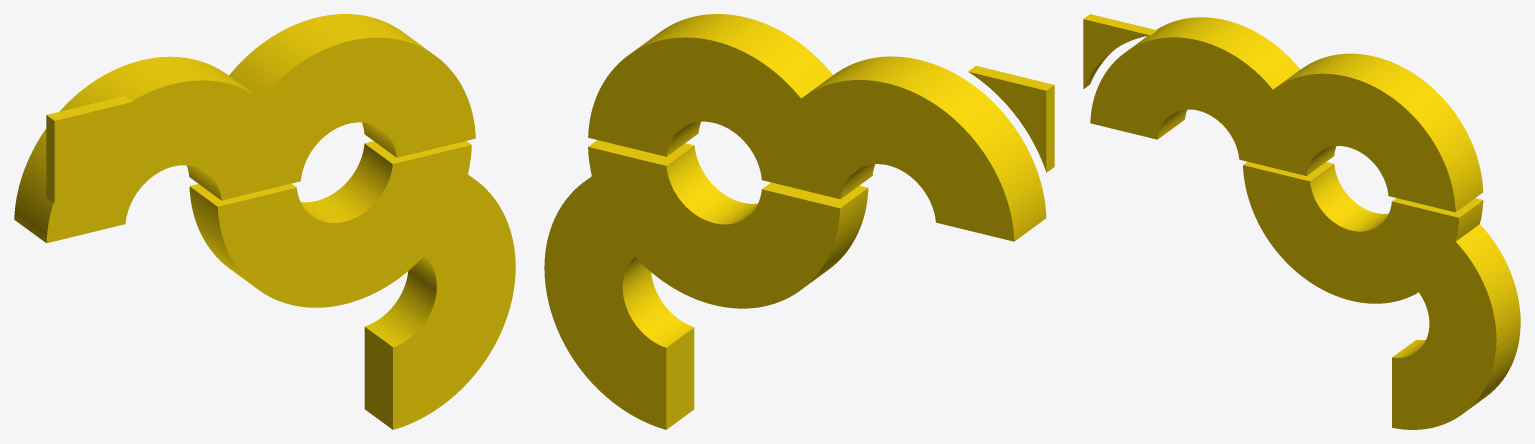
The model's file is img.gltf.
The picture shows the model from 3 angles, left to right: view 1: azimuth 30°, elevation 25°; view 2: azimuth 150°, elevation 25°; view 3: azimuth 330°, elevation 25°; orthographic projection. The views are drawn at different scales.
Size of the model in its own units: 7.72 by 6.29 by 1.14.
